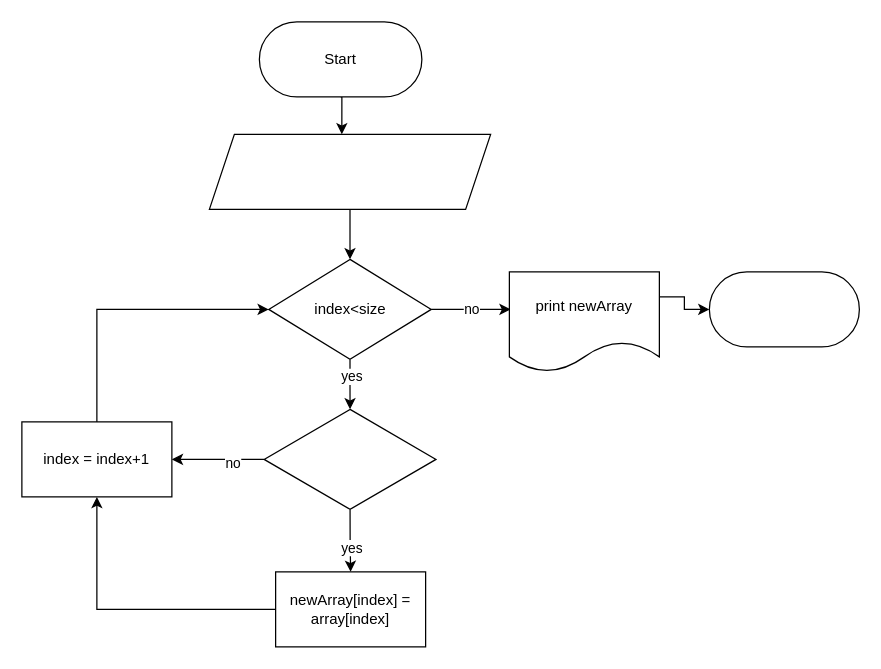
This 881x669 diagram has some shape labels left out. Here are the shapes that lost their labels. From the top down, the box of each, then its label:
(208, 133, 491, 209): array = ["hello", "2", "world", ":-)"] size = 4 index = 0
(708, 271, 859, 347): End
(263, 408, 436, 509): array[index].length<=3
